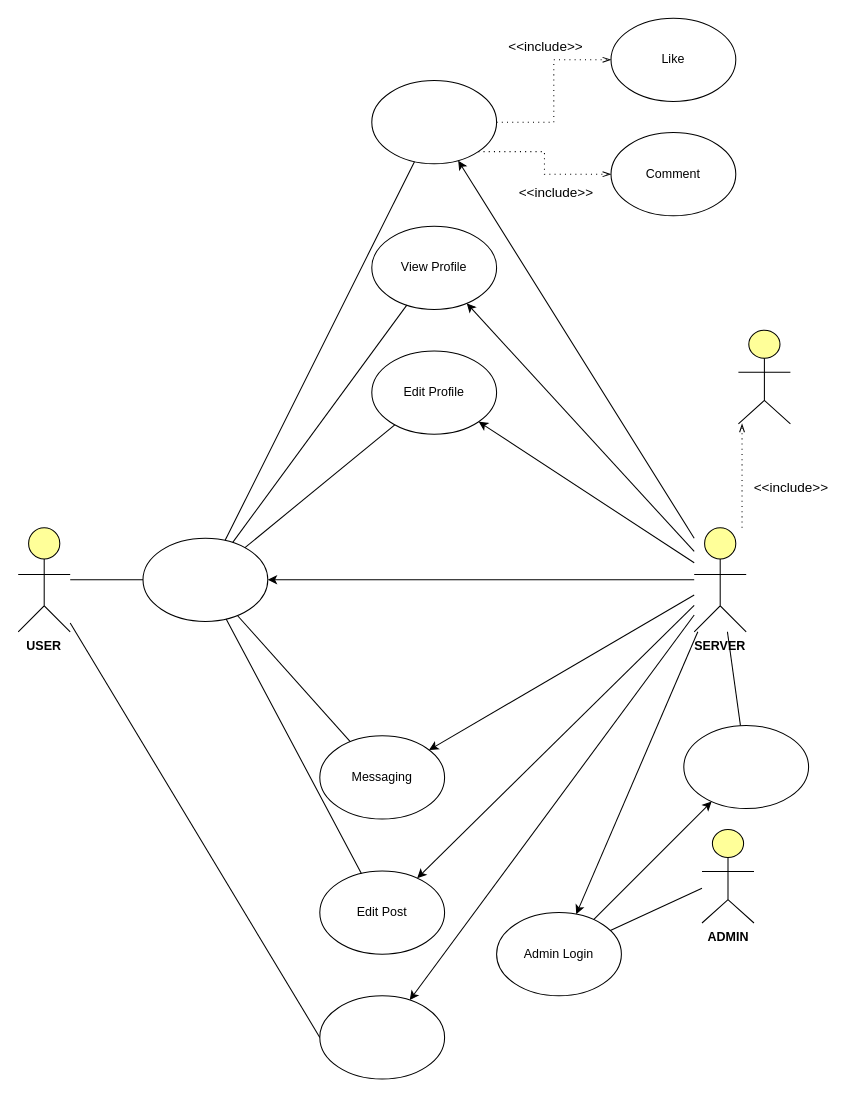
Image size: 847x1097. Some labels were removed from this diagram. The shapes that lost their labels are listed below. From the top down, each one's centre as x and y in pixels, then its label:
(x=434, y=122): View Post
(x=763, y=376): DATABASE
(x=205, y=579): Login
(x=746, y=766): Moderate
(x=382, y=1037): Register
